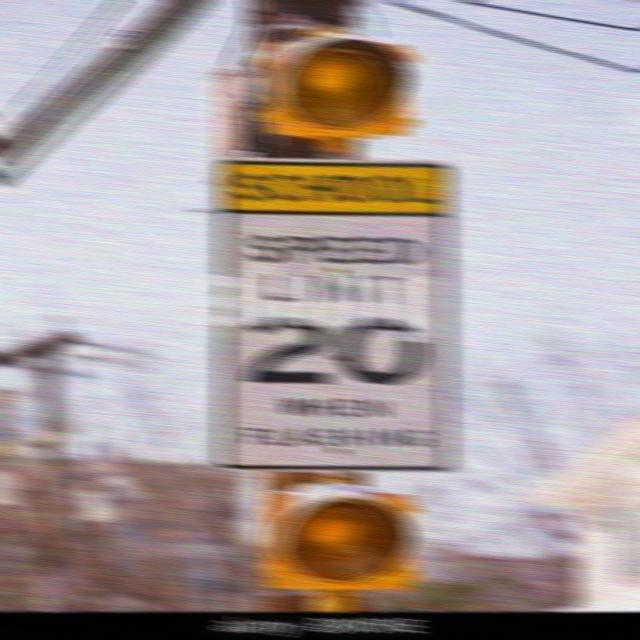speedLimit20: (223, 209, 453, 473)
